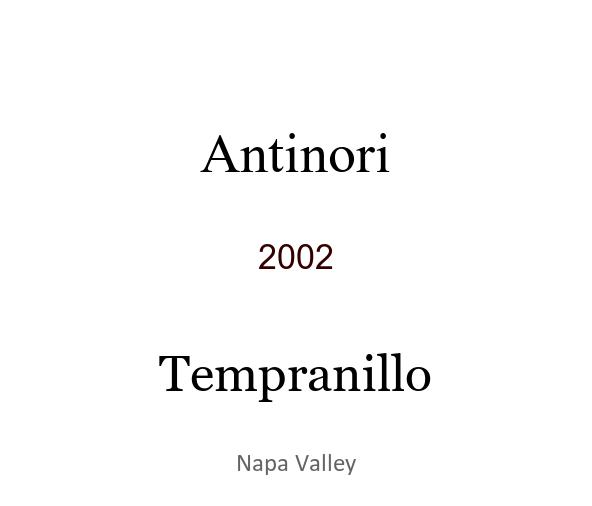brand: (200, 122, 391, 161)
region: (236, 452, 356, 473)
variety: (159, 345, 432, 394)
vintage: (258, 238, 334, 263)
